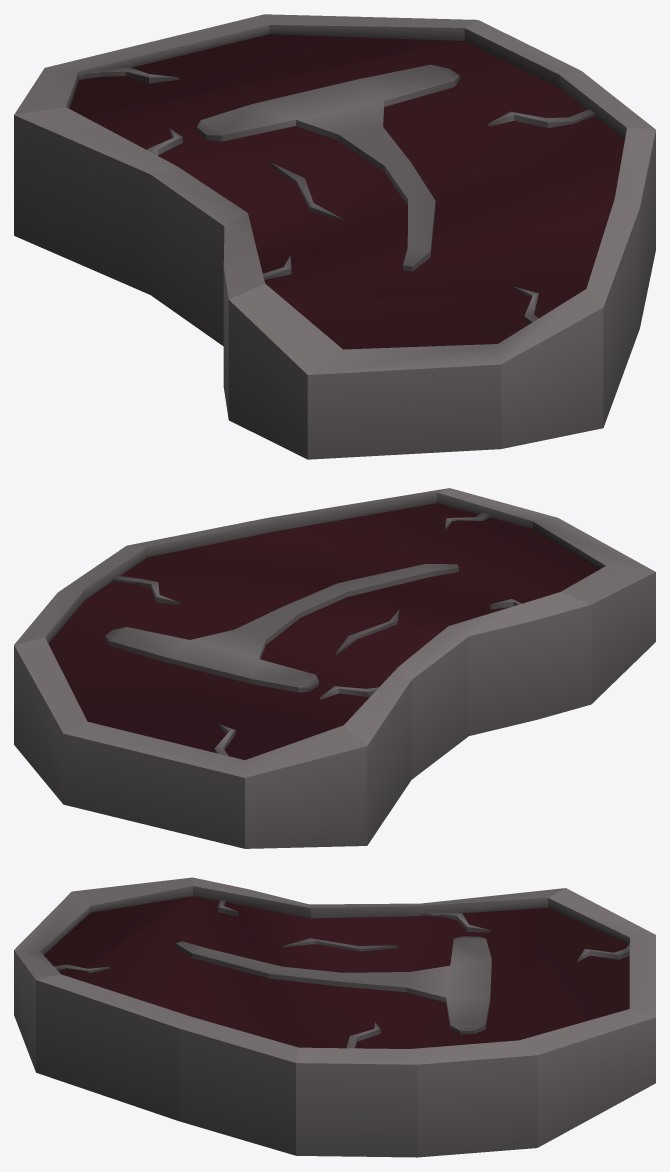
File: pq_viande.glb
3 views of the same model, one above another, from view 1: azimuth 30°, elevation 25°; view 2: azimuth 150°, elevation 25°; view 3: azimuth 270°, elevation 25° (orthographic). The views are drawn at different scales.
Visible parts, largest first — view 1: Steak; view 2: Steak; view 3: Steak.
Part boxes in pixels (<box>): Steak: <box>14,14,655,459</box>; Steak: <box>14,488,655,848</box>; Steak: <box>14,877,655,1157</box>.
Bounding box in the file's own units: 0.1518 × 0.0391 × 0.22.
